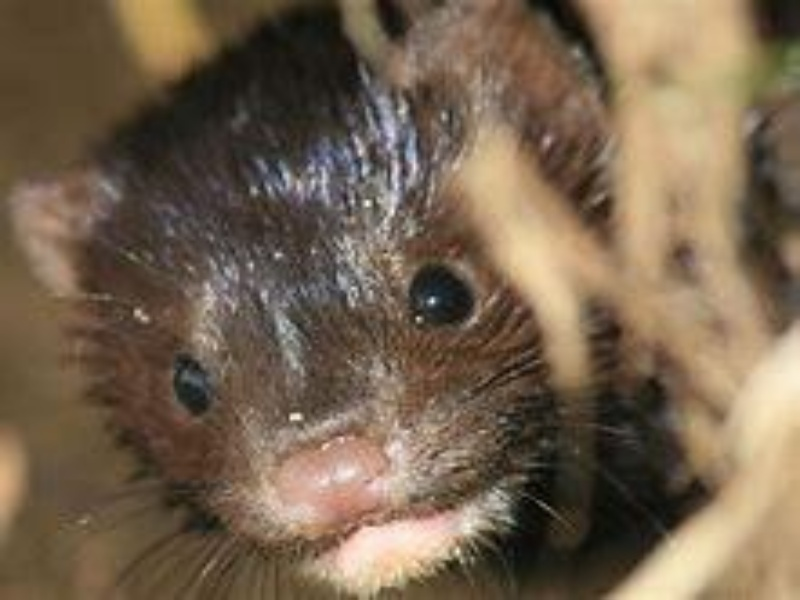minkish: (9, 15, 719, 596)
